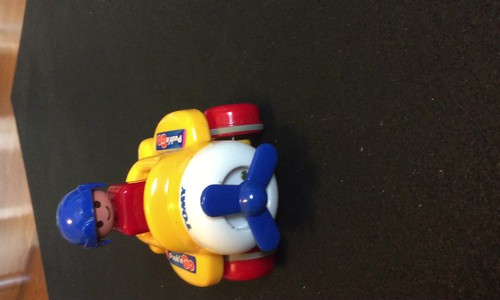toy: (52, 104, 296, 285)
